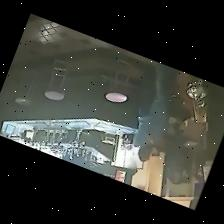person: (139, 62, 178, 160), (133, 69, 156, 161), (166, 122, 185, 183), (193, 127, 206, 179)
